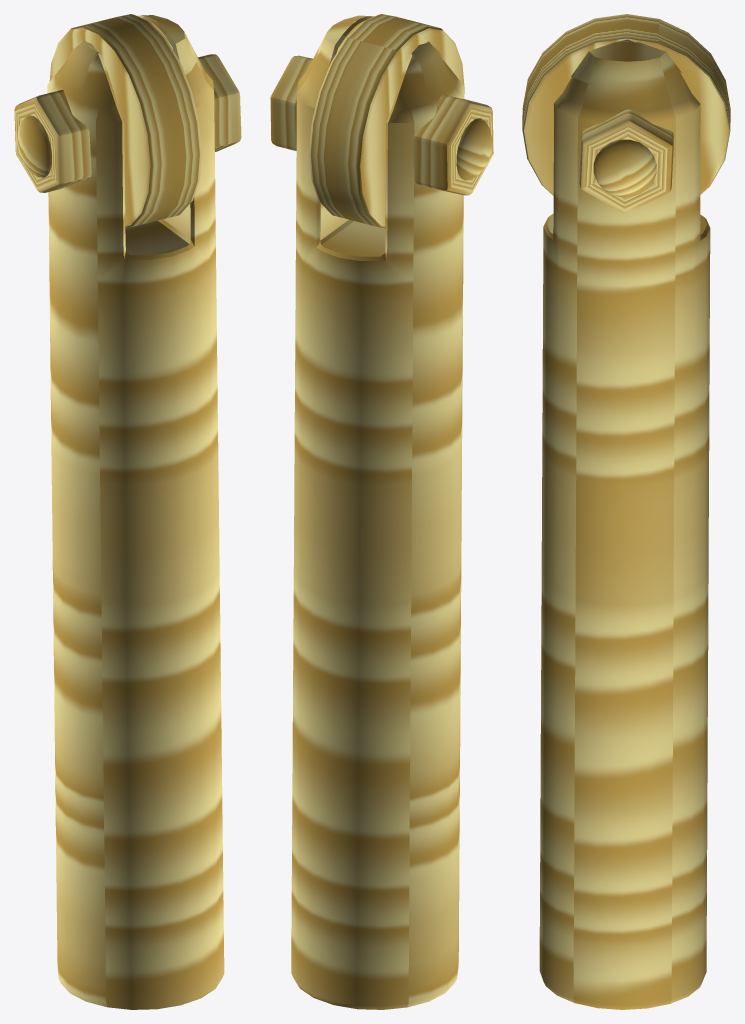
File: left arm.obj
3 renders of one model, left to right at view 1: azimuth 30°, elevation 25°; view 2: azimuth 150°, elevation 25°; view 3: azimuth 270°, elevation 25°, orthographic.
Parts seen in each view (by area): view 1: Blake_left_hand_left_forearm_left_forearm, Blake_left_hand_left_forearm_left_elbow, Blake_left_hand_left_forearm_bolts_left_elbow_bolt_2, Blake_left_hand_left_forearm_left_elbow_bolt_1_bolts, Blake_left_hand_left_forearm_bolts_left_elbow_bolt_2_part; view 2: Blake_left_hand_left_forearm_left_forearm, Blake_left_hand_left_forearm_left_elbow, Blake_left_hand_left_forearm_bolts_left_elbow_bolt_2, Blake_left_hand_left_forearm_left_elbow_bolt_1_bolts, Blake_left_hand_left_forearm_bolts_left_elbow_bolt_2_part; view 3: Blake_left_hand_left_forearm_left_forearm, Blake_left_hand_left_forearm_left_elbow, Blake_left_hand_left_forearm_left_elbow_bolt_1_bolts, Blake_left_hand_left_forearm_bolts_left_elbow_bolt_1_part.
Boxes of the visible parts, box(x1,y1,x2,y2) form: Blake_left_hand_left_forearm_left_forearm: box(47, 15, 224, 1009); Blake_left_hand_left_forearm_left_elbow: box(49, 14, 201, 228); Blake_left_hand_left_forearm_bolts_left_elbow_bolt_2: box(14, 90, 91, 192); Blake_left_hand_left_forearm_left_elbow_bolt_1_bolts: box(198, 54, 241, 151); Blake_left_hand_left_forearm_bolts_left_elbow_bolt_2_part: box(17, 115, 51, 177); Blake_left_hand_left_forearm_left_forearm: box(291, 15, 464, 1009); Blake_left_hand_left_forearm_left_elbow: box(309, 14, 464, 228); Blake_left_hand_left_forearm_bolts_left_elbow_bolt_2: box(412, 95, 493, 195); Blake_left_hand_left_forearm_left_elbow_bolt_1_bolts: box(270, 55, 312, 150); Blake_left_hand_left_forearm_bolts_left_elbow_bolt_2_part: box(456, 118, 492, 180); Blake_left_hand_left_forearm_left_forearm: box(539, 39, 710, 1009); Blake_left_hand_left_forearm_left_elbow: box(522, 14, 730, 195); Blake_left_hand_left_forearm_left_elbow_bolt_1_bolts: box(579, 109, 673, 213); Blake_left_hand_left_forearm_bolts_left_elbow_bolt_1_part: box(593, 139, 656, 196).
Size of the model in its own units: 0.4278 by 1.88 by 0.3748.
